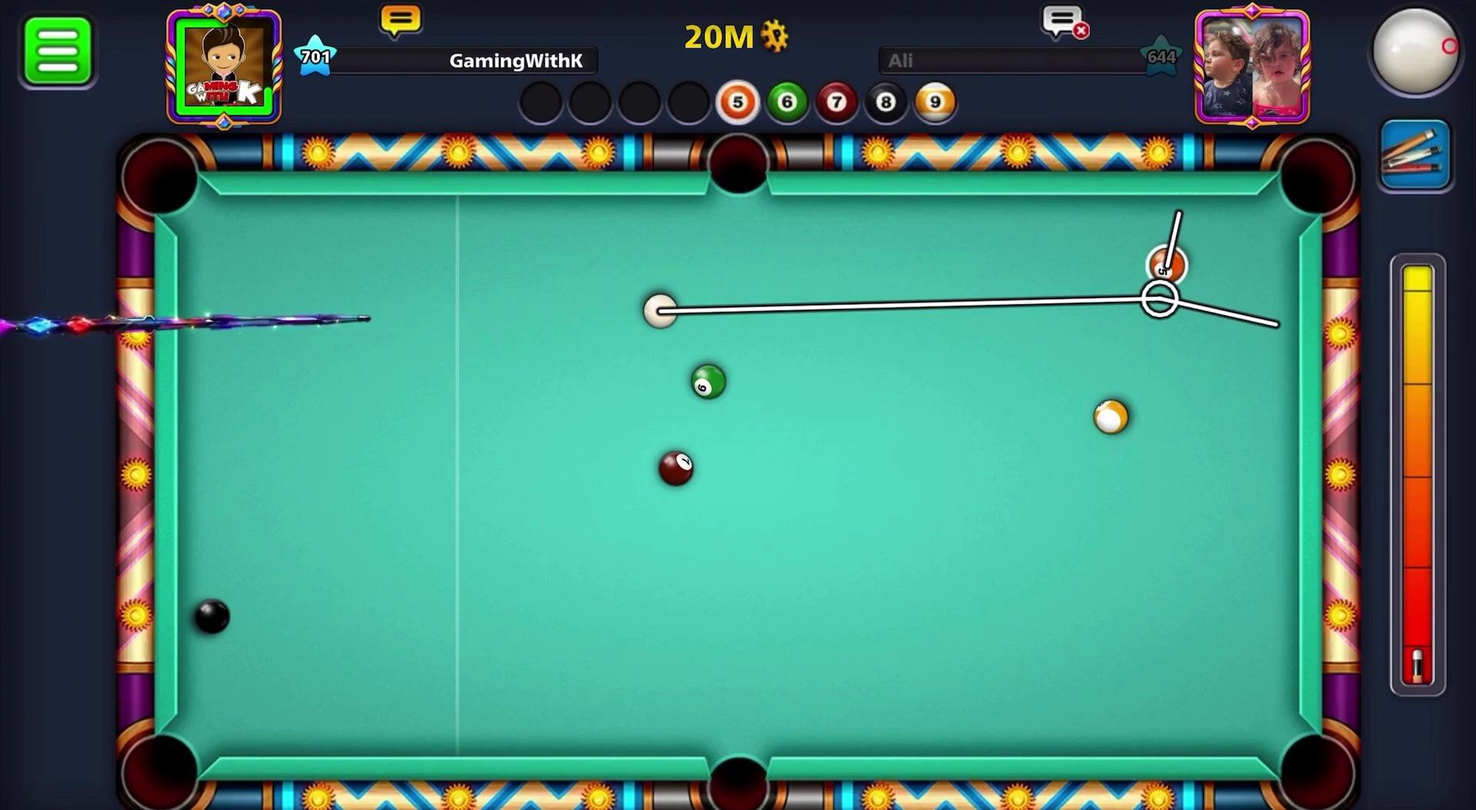Ball: (648, 443, 705, 493), (685, 357, 731, 405), (1089, 393, 1135, 440), (186, 593, 234, 637), (1144, 242, 1189, 288)
Force: (1385, 249, 1452, 699)
Guideline: (643, 210, 1280, 328)
Hole: (1262, 128, 1368, 231), (108, 128, 211, 228), (110, 713, 212, 809), (1264, 717, 1364, 809), (685, 734, 785, 809), (698, 125, 784, 207)
Play_Area: (175, 194, 1298, 759)
Spin: (1342, 0, 1475, 112)
White: (634, 287, 679, 333)
